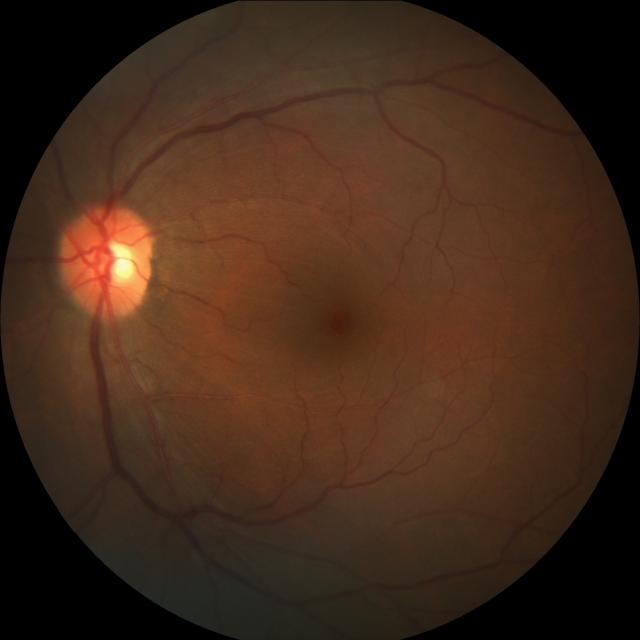OC: (91, 238, 139, 288)
OD: (60, 200, 158, 318)
